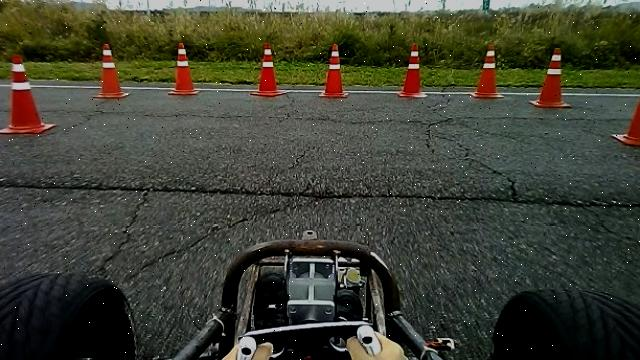red cone: (0, 52, 56, 134), (529, 47, 572, 108), (612, 59, 640, 146), (92, 42, 131, 98), (250, 42, 288, 96), (471, 43, 505, 98), (397, 43, 429, 97), (168, 42, 200, 95), (319, 42, 349, 98)
